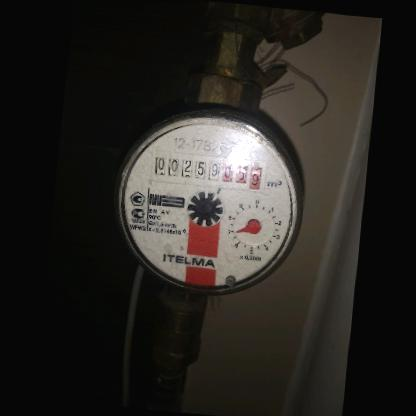digital_screen: (145, 148, 223, 192)
